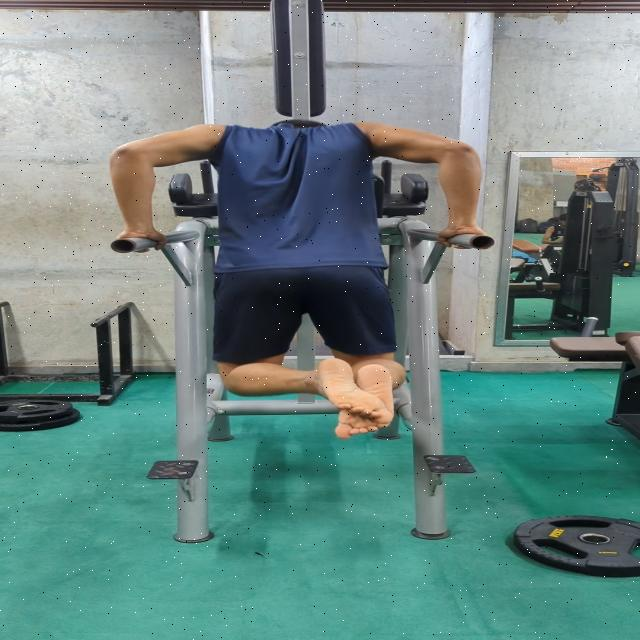Normal_Dips: (98, 87, 518, 445)
